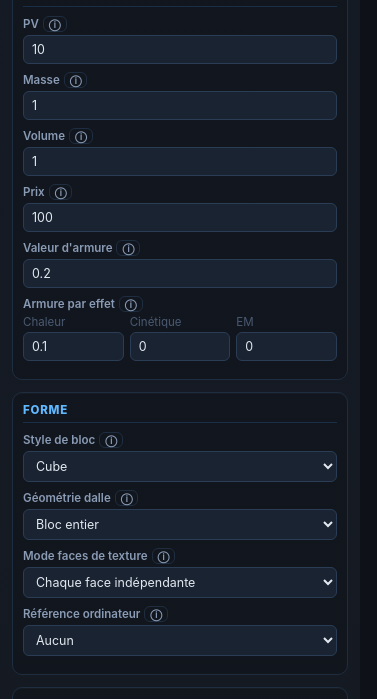
Properties › translates actionable errors and damage labels while keeping XML field keys unchanged
(page scrolled)
Replace the text in the number field labelled "Chaleur" with "0.45" at (73, 346), box [23,332,124,361]
(page scrolled)
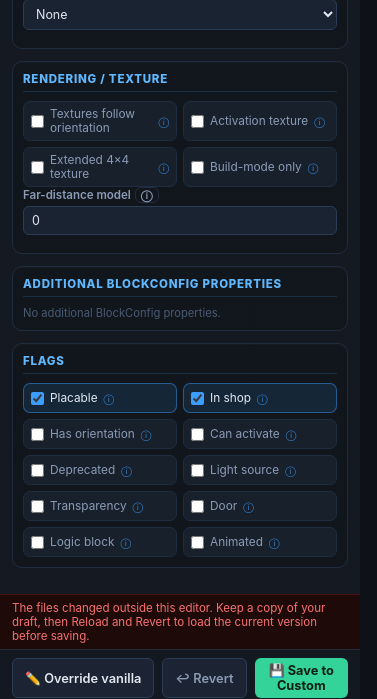
Expected: the message shows "The files changed", [12,601,325,643]
